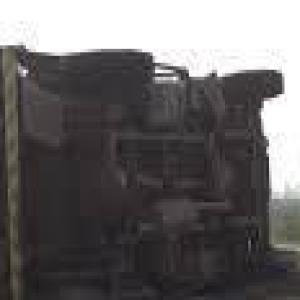severe: (0, 28, 297, 300)
